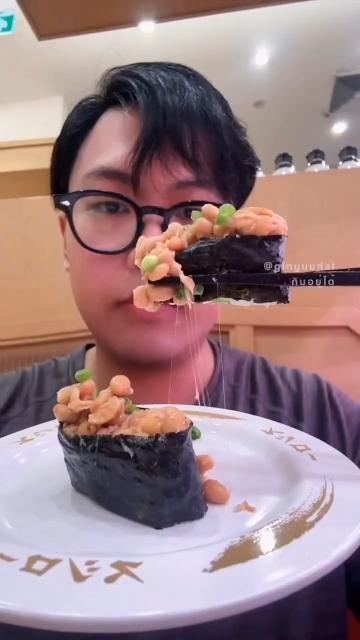janwhite: (0, 475, 360, 610)
